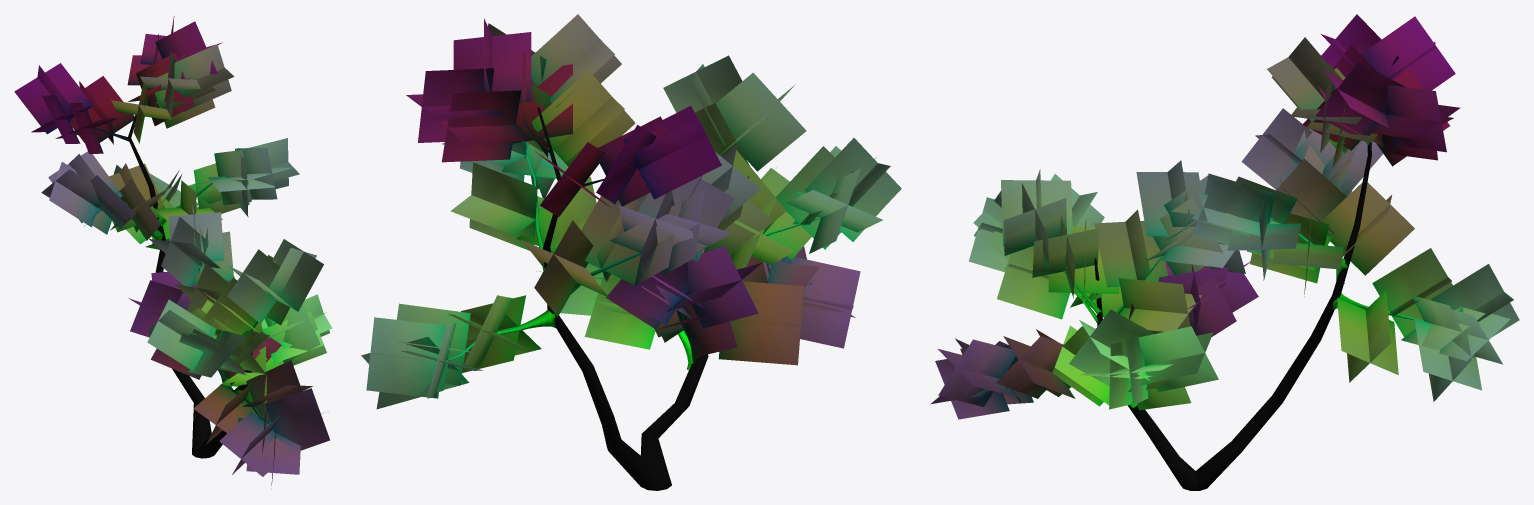
File: URP_P3_Tree_7_LOD_2.fbx
3 renders of one model, left to right at view 1: azimuth 30°, elevation 25°; view 2: azimuth 150°, elevation 25°; view 3: azimuth 270°, elevation 25°, orthographic. The views are drawn at different scales.
Visible parts, largest first — view 1: Tree_7_LOD_2; view 2: Tree_7_LOD_2; view 3: Tree_7_LOD_2.
Part boxes in pixels (<box>): Tree_7_LOD_2: <box>14,16,332,489</box>; Tree_7_LOD_2: <box>361,14,901,490</box>; Tree_7_LOD_2: <box>930,14,1519,490</box>.
Size of the model in its own units: 509 by 803 by 937.
